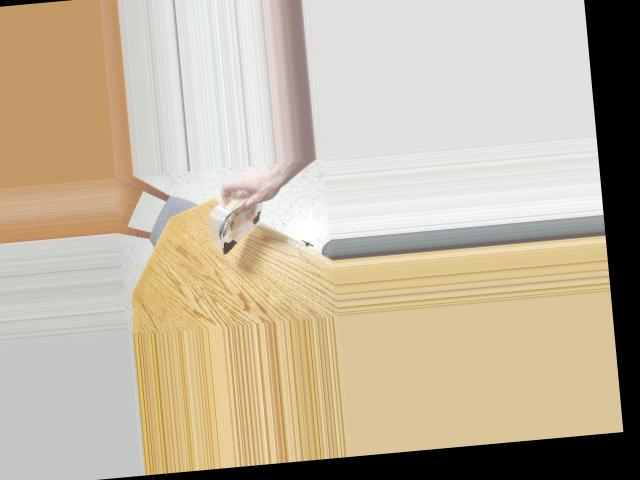cheese: (196, 190, 283, 256)
